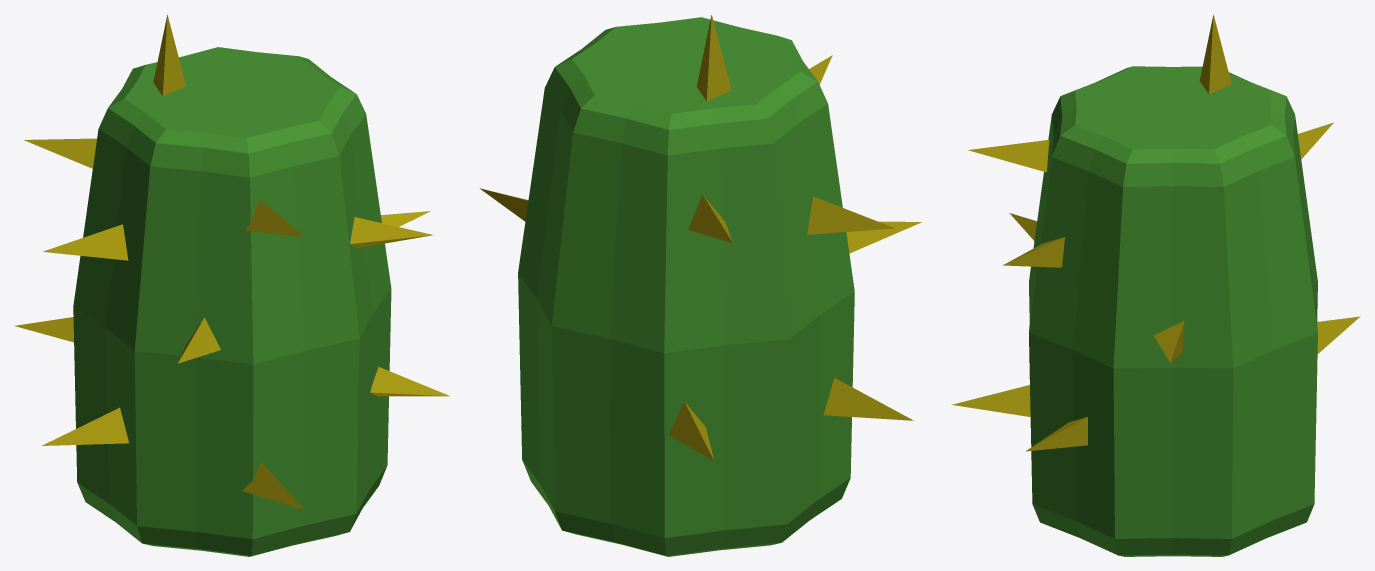
Rendered from Cactus_01_B.fbx.
3 renders of one model, left to right at view 1: azimuth 30°, elevation 25°; view 2: azimuth 150°, elevation 25°; view 3: azimuth 270°, elevation 25°, orthographic. The views are drawn at different scales.
Parts seen in each view (by area): view 1: Cactus_01_B; view 2: Cactus_01_B; view 3: Cactus_01_B.
Part boxes in pixels (x1,y1,x2,y2): Cactus_01_B: (15,14,449,556); Cactus_01_B: (480,15,921,556); Cactus_01_B: (951,14,1360,556).
Bounding box in the file's own units: 75.77 × 87.48 × 68.75.
